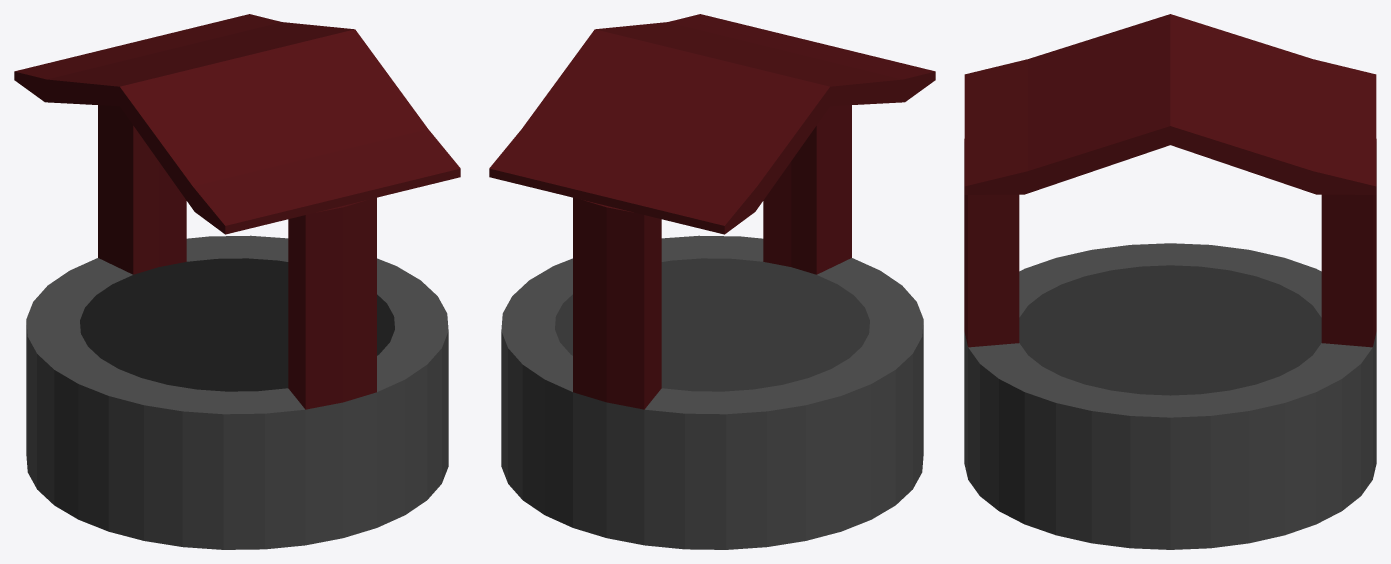
Rendered from welll.fbx.
The picture shows the model from 3 angles, left to right: view 1: azimuth 30°, elevation 25°; view 2: azimuth 150°, elevation 25°; view 3: azimuth 270°, elevation 25°; orthographic projection. The views are drawn at different scales.
Visible parts, largest first — view 1: Cylinder, Cube; view 2: Cylinder, Cube; view 3: Cylinder, Cube.
Boxes of the visible parts, x1=… form: Cylinder: x1=26, y1=105, x2=448, y2=549; Cube: x1=14, y1=14, x2=460, y2=234; Cylinder: x1=501, y1=105, x2=923, y2=549; Cube: x1=489, y1=14, x2=935, y2=234; Cylinder: x1=964, y1=139, x2=1376, y2=549; Cube: x1=964, y1=14, x2=1376, y2=194.
Bounding box in the file's own units: 1171 × 1230 × 1171.
